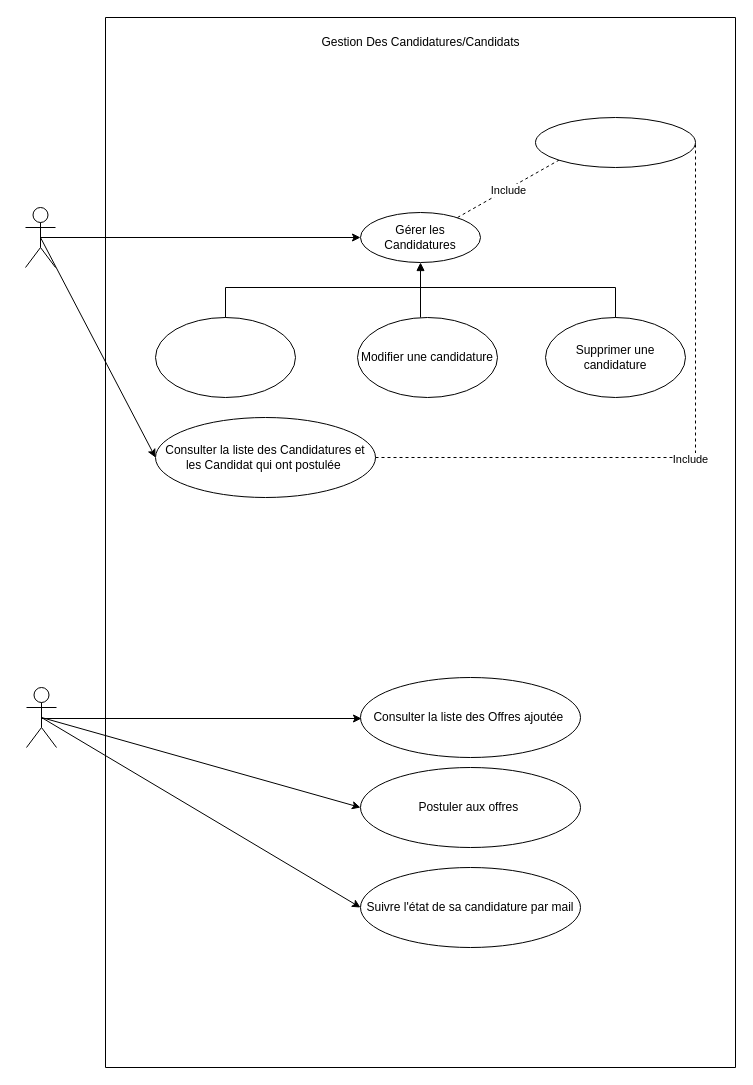
This 753x1085 diagram has some shape labels left out. The shapes that lost their labels are listed below. From the top down, each one's centre as x and y in pixels, then its label:
(x=615, y=142): S'authentifier
(x=40, y=237): Admin
(x=225, y=357): Ajouter une candidature
(x=41, y=717): Candidat
